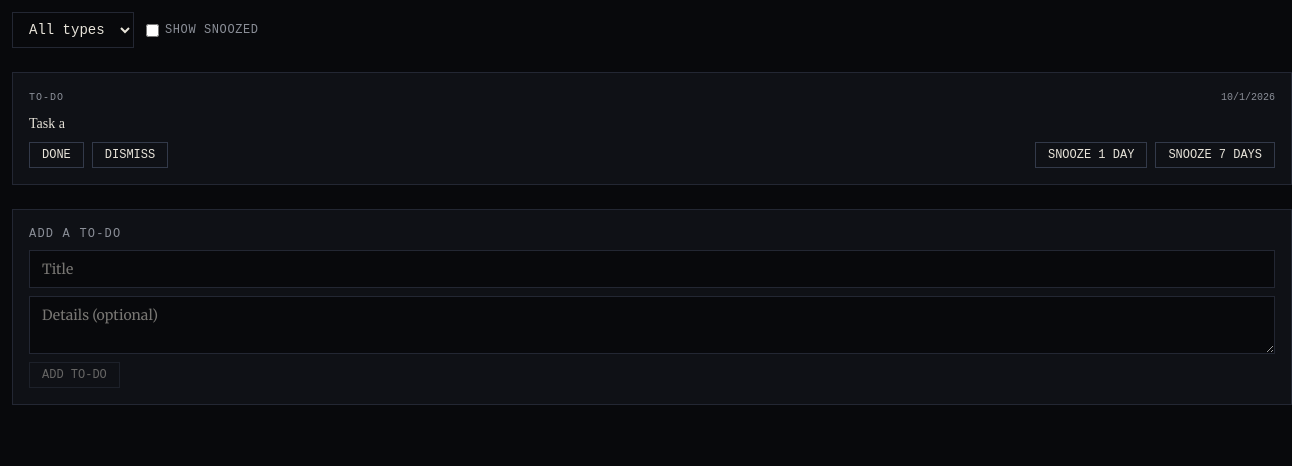
Test case: a failed background refetch keeps the list and shows the error above it
This screenshot has width=1292, height=466.
Expected: the text "Task a" is shown, top-left (29, 116), bottom-right (65, 131)
Step 1. Click the button "Snooze 1 day" → (1091, 155), box top-left (1035, 142), bottom-right (1147, 168)
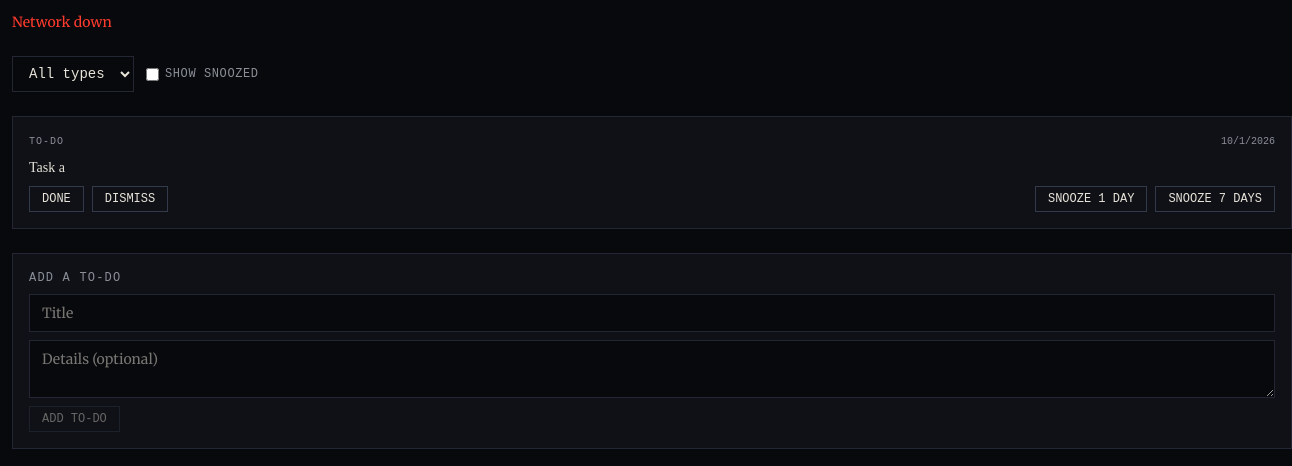
Expected: the text "Task a" is shown, top-left (29, 160), bottom-right (65, 175)
Result: the text "Network down" is shown at top-left (12, 13), bottom-right (112, 31)
